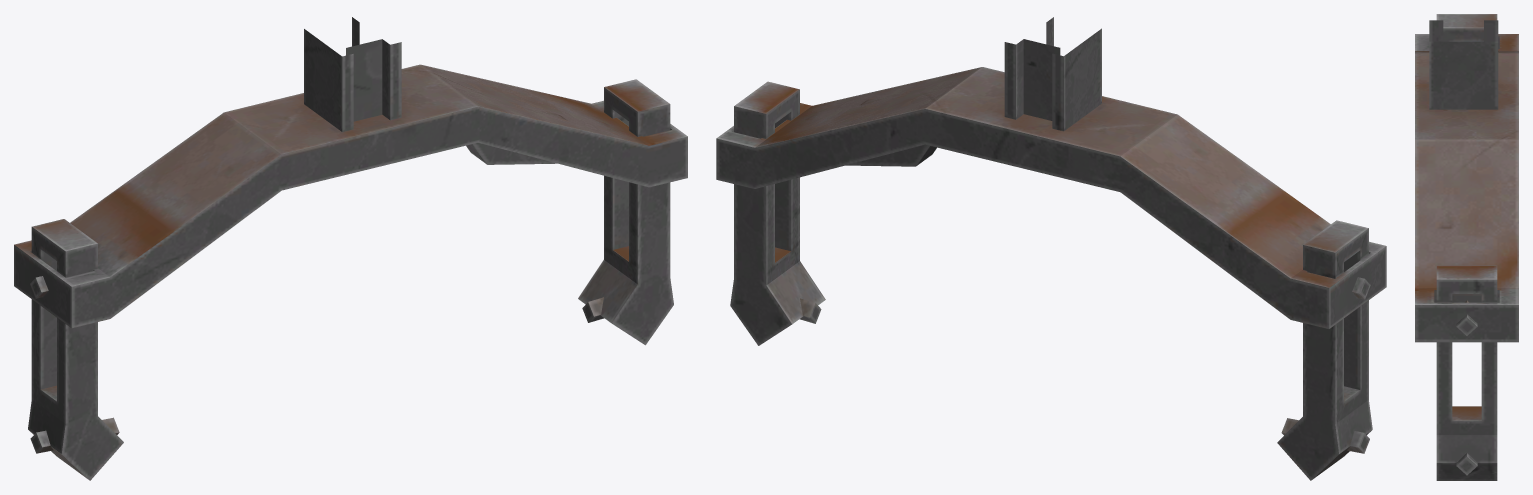
The model's file is roller_to_conveyor.glb.
3 renders of one model, left to right at view 1: azimuth 30°, elevation 25°; view 2: azimuth 150°, elevation 25°; view 3: azimuth 270°, elevation 25°, orthographic. The views are drawn at different scales.
Parts seen in each view (by area): view 1: roller_to_conveyor; view 2: roller_to_conveyor; view 3: roller_to_conveyor.
Boxes of the visible parts, x1,y1,x2,y2 form: roller_to_conveyor: [14, 17, 687, 480]; roller_to_conveyor: [716, 17, 1386, 480]; roller_to_conveyor: [1415, 14, 1518, 480].
Size of the model in its own units: 1.07 by 0.5953 by 0.1697.
Materials: 1 (1 with a texture image).
